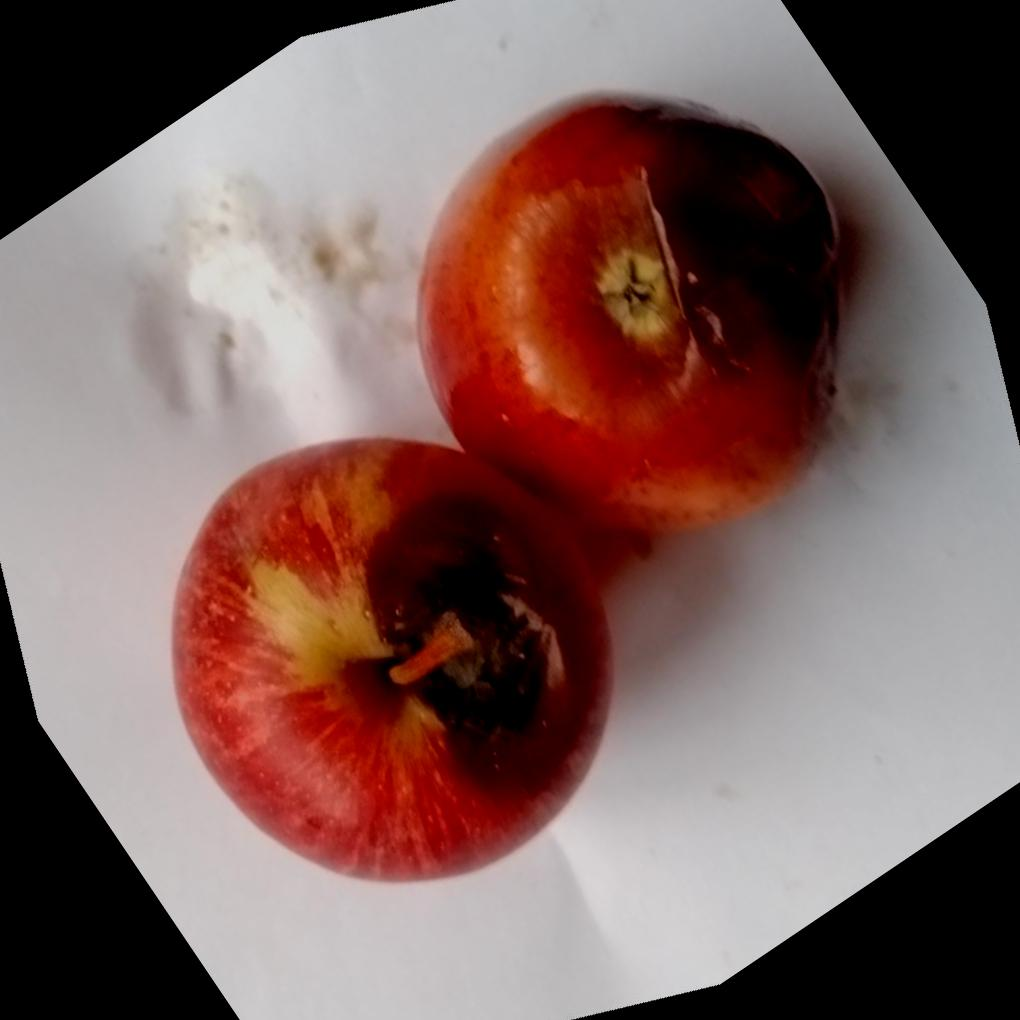FreshOrange: (163, 91, 841, 887)
